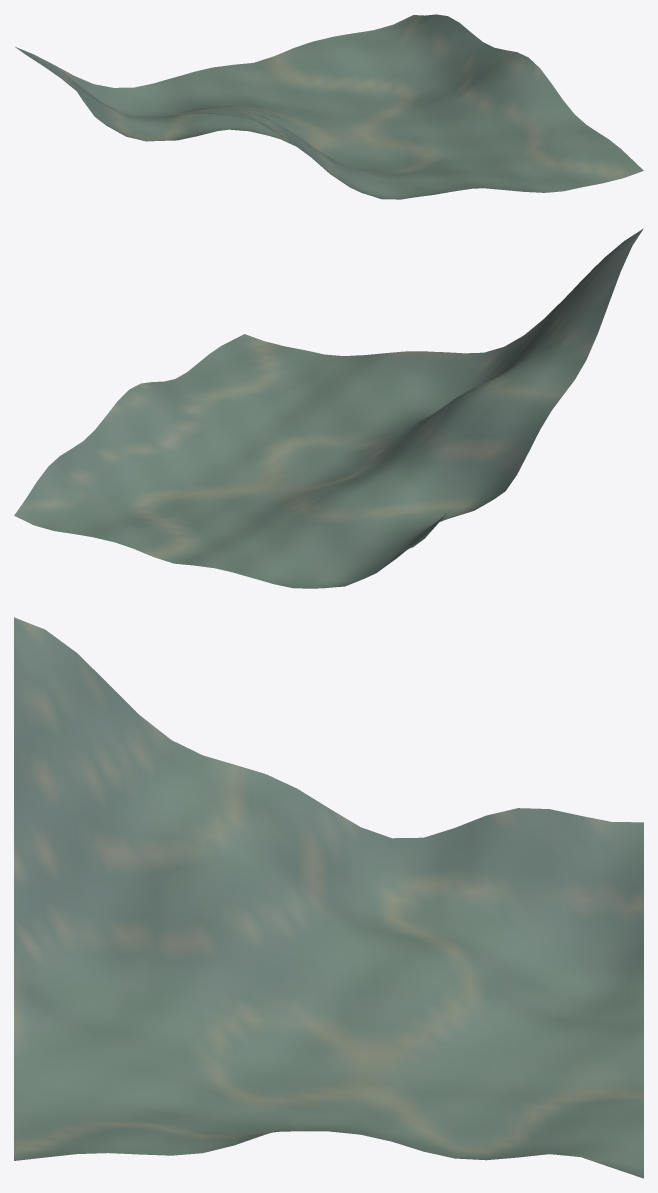
File: ridge_-1_-15.glb
The picture shows the model from 3 angles, top to bottom: view 1: azimuth 30°, elevation 25°; view 2: azimuth 150°, elevation 25°; view 3: azimuth 270°, elevation 25°; orthographic projection. The views are drawn at different scales.
Size of the model in its own units: 220 by 122 by 220.
